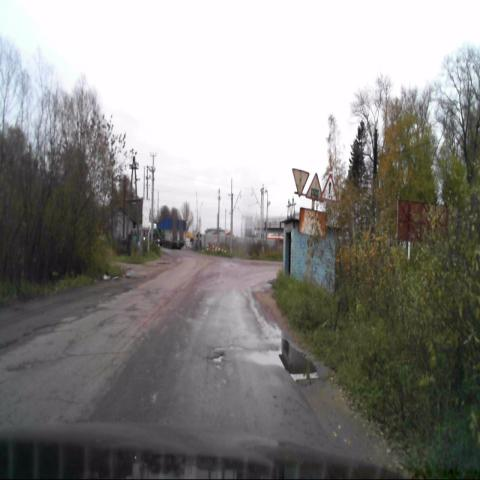1_1: (306, 172, 322, 200)
1_33: (321, 174, 337, 201)
